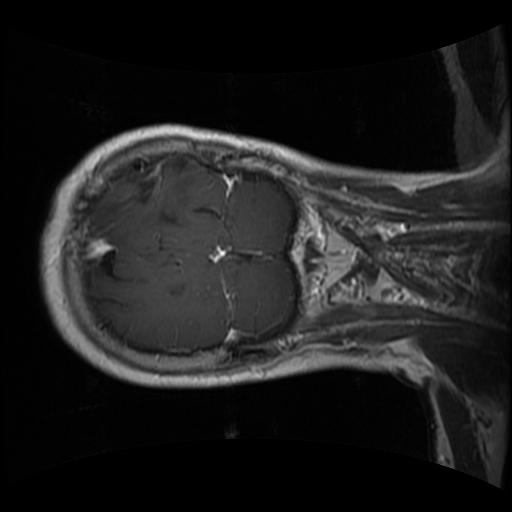glioma: (90, 156, 212, 234)
